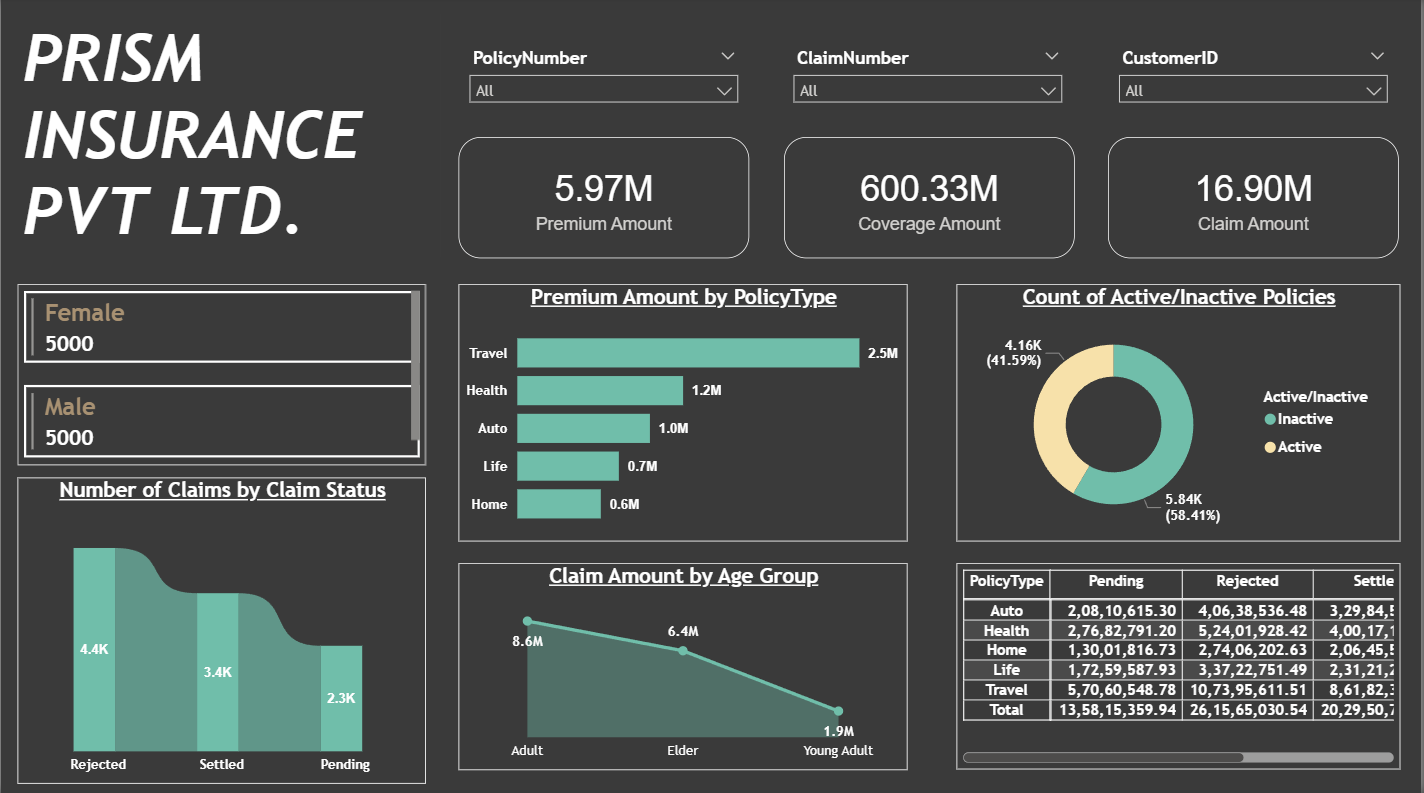

The dashboard page shown, as its layout file describes it:
{"tool":"powerbi","page":{"name":"Page 1","canvas":[1280,720],"ordinal":0},"visuals":[{"type":"slicer","fields":{"Values":["InsuranceData.PolicyNumber"]},"box":[411.9,40.9,262,72.7],"z":0},{"type":"slicer","fields":{"Values":["InsuranceData.ClaimNumber"]},"box":[704.9,40.9,262,72.7],"z":1000},{"type":"slicer","fields":{"Values":["InsuranceData.CustomerID"]},"box":[997.9,40.9,262,72.7],"z":2000},{"type":"textbox","box":[15.1,16.7,381.6,219.6],"z":3000},{"type":"card","fields":{"Values":["Sum(InsuranceData.PremiumAmount)"]},"box":[411.9,127.2,262,109],"z":4000},{"type":"card","fields":{"Values":["Sum(InsuranceData.CoverageAmount)"]},"box":[705.6,127.2,262,109],"z":5000},{"type":"card","fields":{"Values":["Sum(InsuranceData.ClaimAmount)"]},"box":[997.9,127.2,262,109],"z":6000},{"type":"multiRowCard","fields":{"Values":["InsuranceData.Gender","CountNonNull(InsuranceData.Gender)"]},"box":[15.2,259.1,368.2,163.6],"z":7000},{"type":"ribbonChart","title":"Number of Claims by Claim Status","fields":{"Category":["InsuranceData.ClaimStatus"],"Y":["CountNonNull(InsuranceData.ClaimStatus)"]},"box":[15.2,433.3,368.2,275.8],"z":8000},{"type":"barChart","title":"Premium Amount by PolicyType","fields":{"Category":["InsuranceData.PolicyType"],"Y":["Sum(InsuranceData.PremiumAmount)"]},"box":[412.1,259.1,404.5,231.8],"z":9000},{"type":"lineChart","title":"Claim Amount by Age Group","fields":{"Category":["InsuranceData.Age Group"],"Y":["Sum(InsuranceData.ClaimAmount)"]},"box":[412.1,510.6,404.5,186.4],"z":10000},{"type":"donutChart","title":"Count of Active/Inactive Policies ","fields":{"Category":["InsuranceData.Active/Inactive"],"Y":["CountNonNull(InsuranceData.Active/Inactive)"]},"box":[860.6,259.1,400,231.8],"z":10001},{"type":"pivotTable","fields":{"Values":["Sum(InsuranceData.CoverageAmount)"],"Rows":["InsuranceData.PolicyType"],"Columns":["InsuranceData.ClaimStatus"]},"box":[861,511,400,186],"z":10002}]}

Visuals, with their boxes in screenshot pixels (x1, y1, x2, y2), scaled from the page's 1280x720 canvas onto the 1424x793 screenshot:
slicer - InsuranceData.PolicyNumber: 458 45 750 125
slicer - InsuranceData.ClaimNumber: 784 45 1076 125
slicer - InsuranceData.CustomerID: 1110 45 1402 125
textbox: 17 18 441 260
card - Sum(InsuranceData.PremiumAmount): 458 140 750 260
card - Sum(InsuranceData.CoverageAmount): 785 140 1076 260
card - Sum(InsuranceData.ClaimAmount): 1110 140 1402 260
multiRowCard - InsuranceData.Gender x CountNonNull(InsuranceData.Gender): 17 285 427 466
"Number of Claims by Claim Status" ribbonChart: 17 477 427 781
"Premium Amount by PolicyType" barChart: 458 285 908 541
"Claim Amount by Age Group" lineChart: 458 562 908 768
"Count of Active/Inactive Policies " donutChart: 957 285 1402 541
pivotTable - Sum(InsuranceData.CoverageAmount) x InsuranceData.PolicyType: 958 563 1403 768
